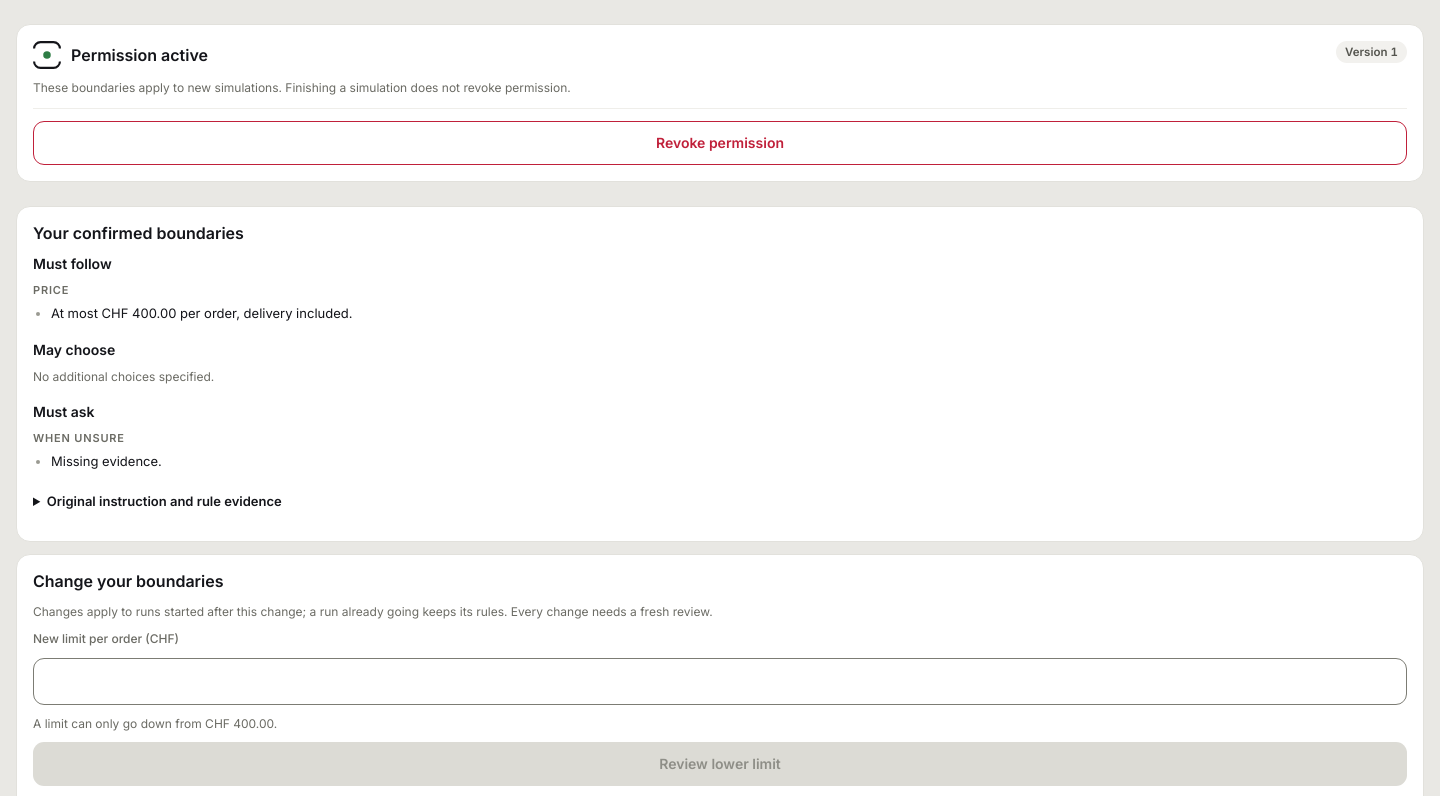
Test case: Permission screen › revoke needs a second tap and shows the platform's confirmation
Step 1. Click the button "Revoke permission" → coordinates (720, 143), box top-left (33, 121), bottom-right (1407, 165)
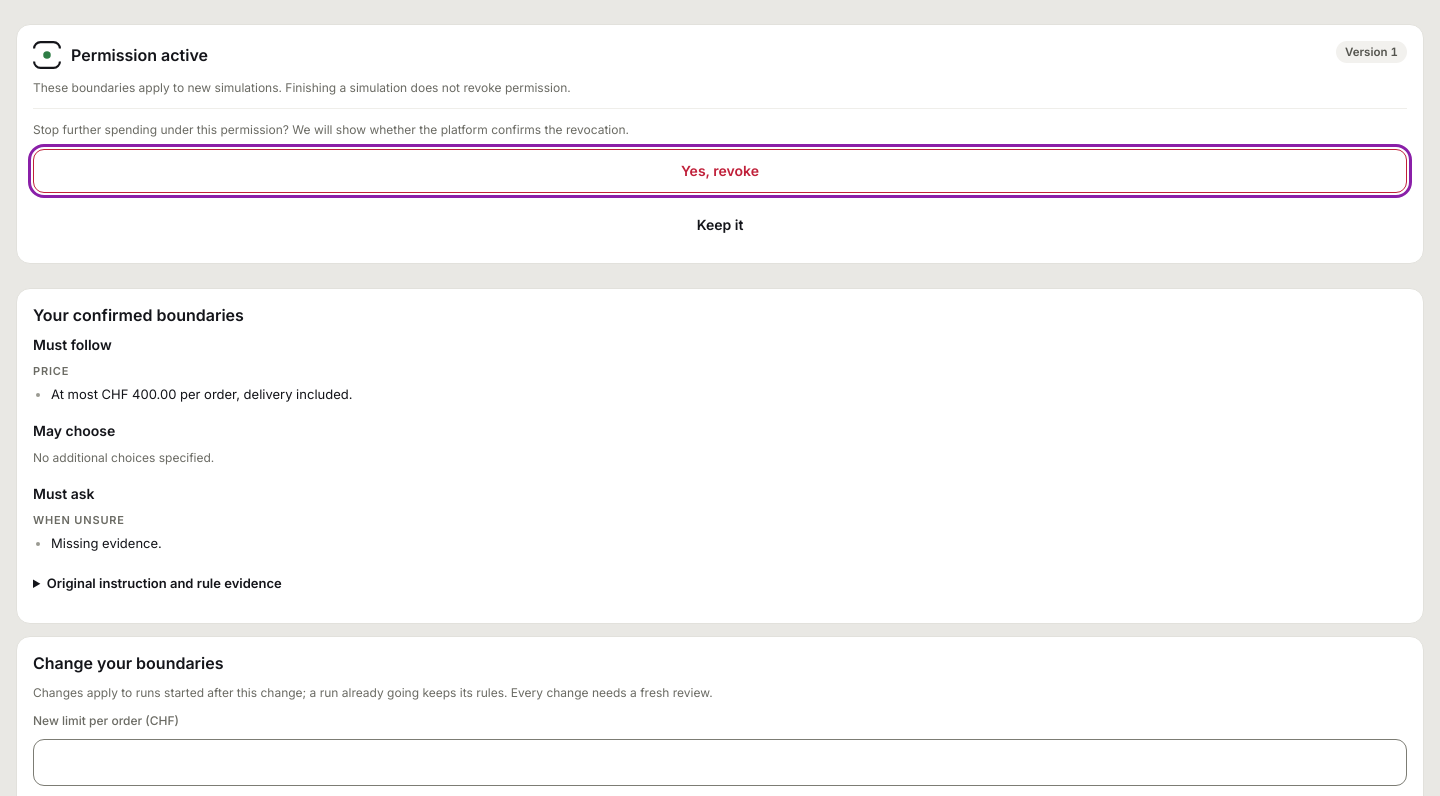
Step 2. Click the button "Yes, revoke" → coordinates (720, 171), box top-left (33, 149), bottom-right (1407, 193)
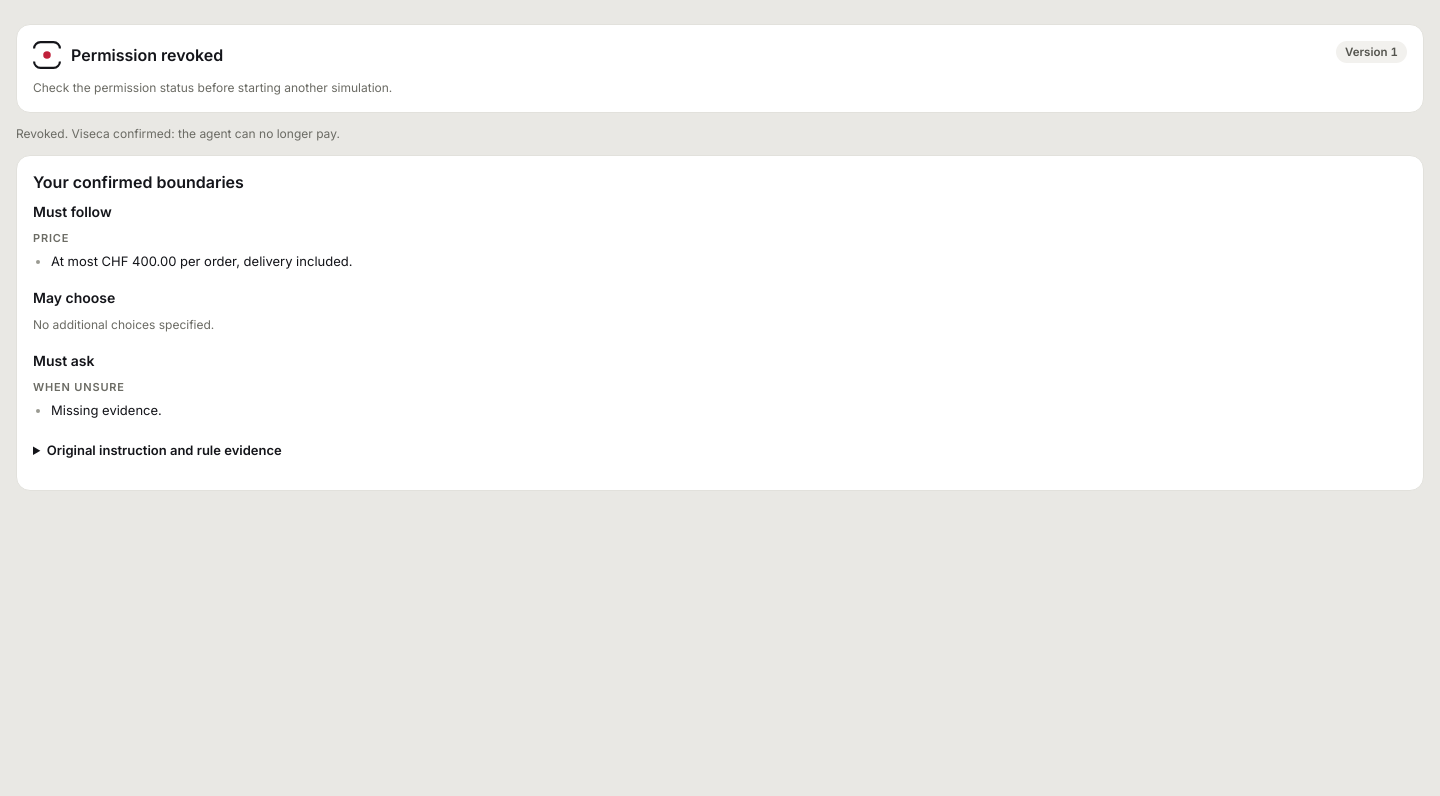
Expected: the text "Revoked. Viseca confirmed: the agent can no longer pay." is shown, top-left (16, 126), bottom-right (340, 141)
